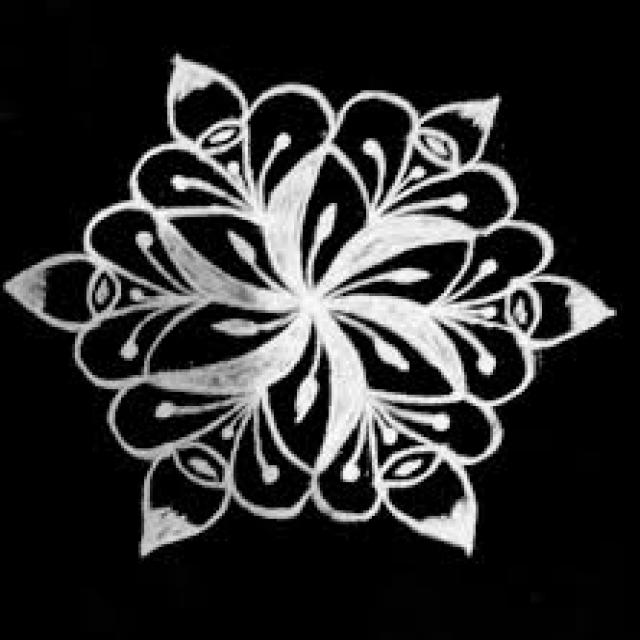rangoli: (0, 46, 628, 570)
